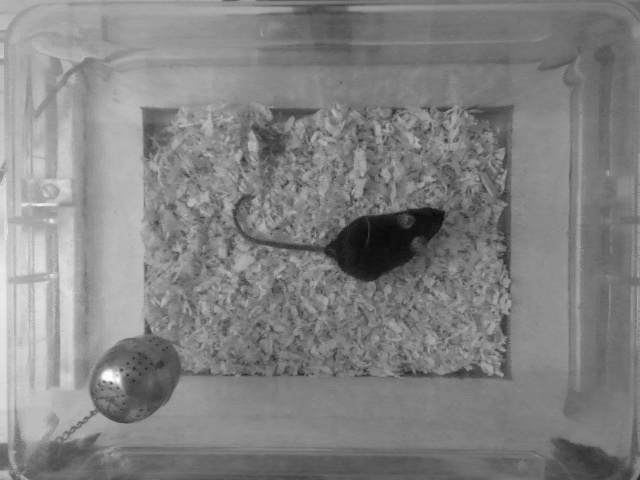mice: (231, 190, 449, 283)
